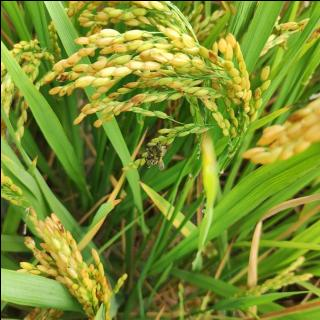Gosong-Palsu: (142, 141, 166, 170)
